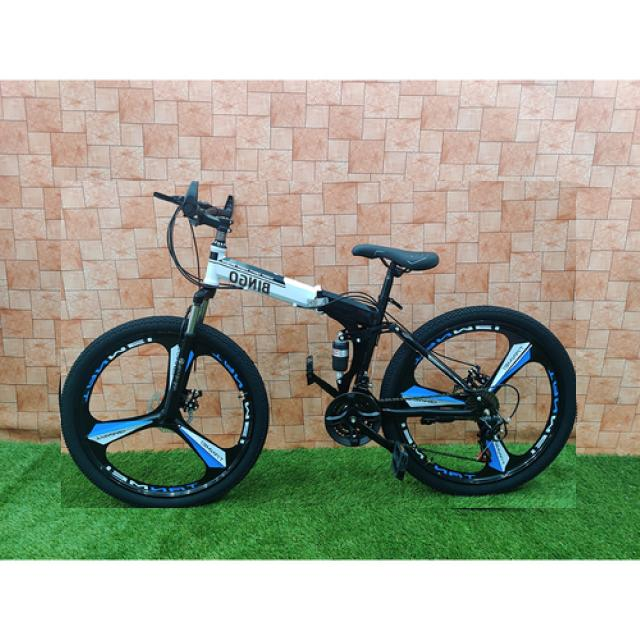bicycle: (61, 181, 576, 508)
